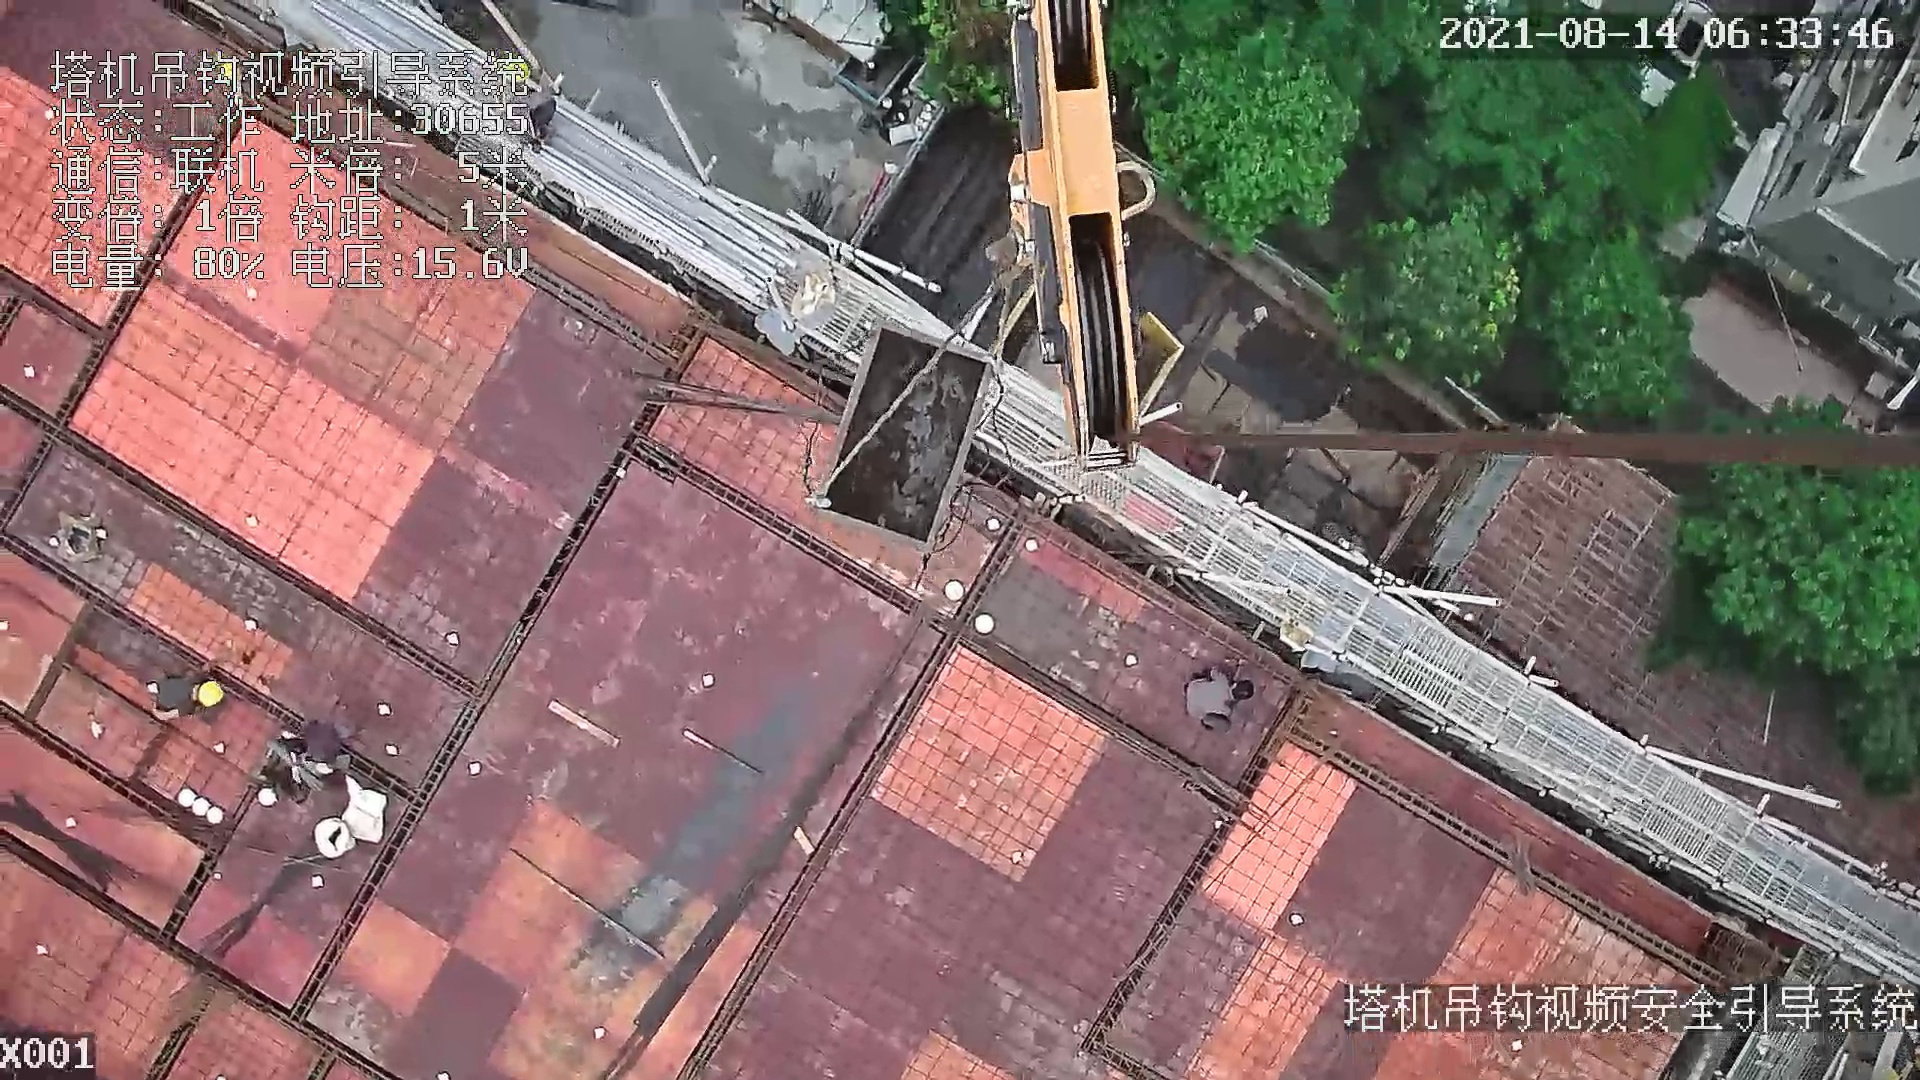helmet: (197, 681, 227, 709)
hook: (990, 1, 1158, 483)
hopper: (823, 305, 997, 558)
person: (1174, 656, 1251, 737), (144, 660, 224, 726), (283, 721, 360, 783)
